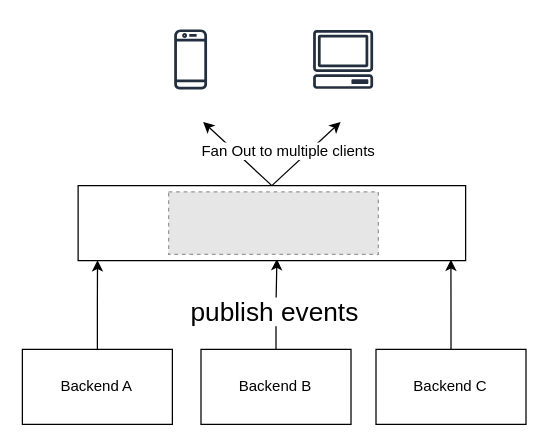
Image size: 548x446. Some labels were removed from this diagram. Grey dashed boxes stand in for pictures. The shapes that lost their labels are listed below. From the top down, each one's box as (x1, y1, x2, y2) in pixels, then its label:
(152, 21, 228, 97): Mobile client
(304, 21, 381, 97): Desktop Client
